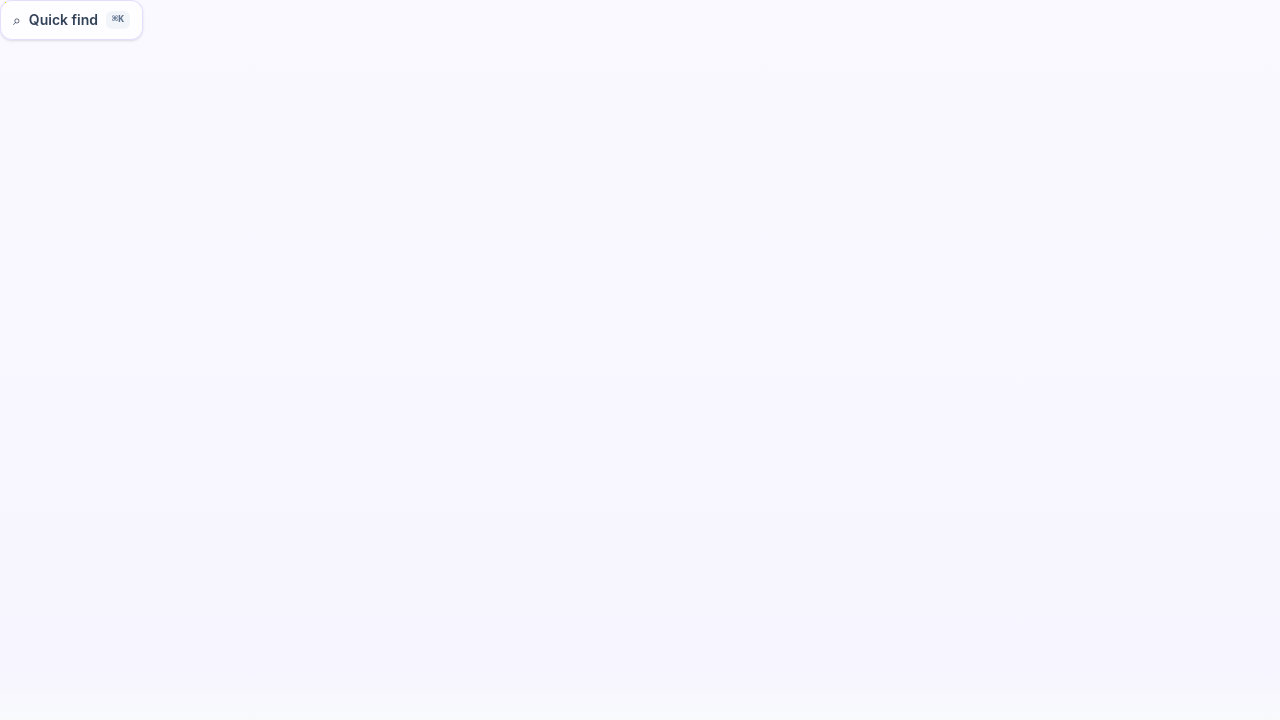
Test: CommandPalette › opens from the keyboard, filters companies and navigates without a mouse
Press k
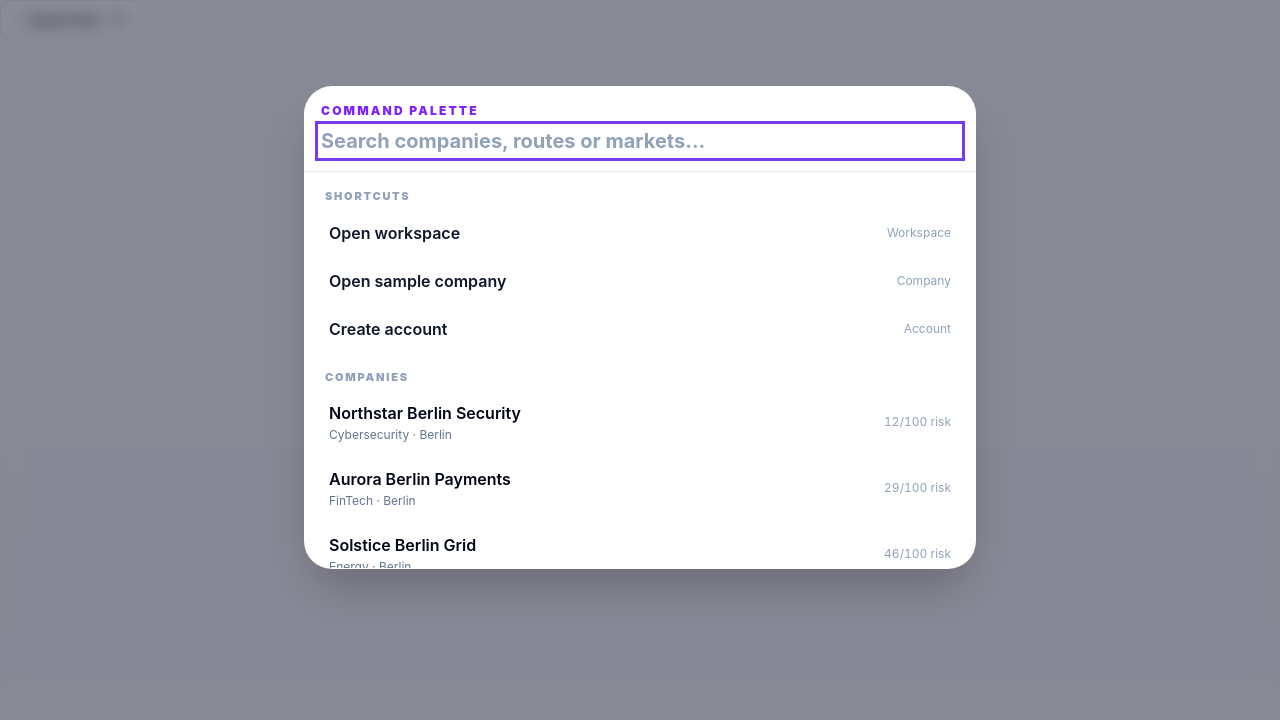
Now the dialog "Command palette" is shown, box [304, 86, 976, 569]
Type "Northstar Berlin" into the field named "Search commands and companies". click: (640, 141)
box: [321, 127, 959, 155]
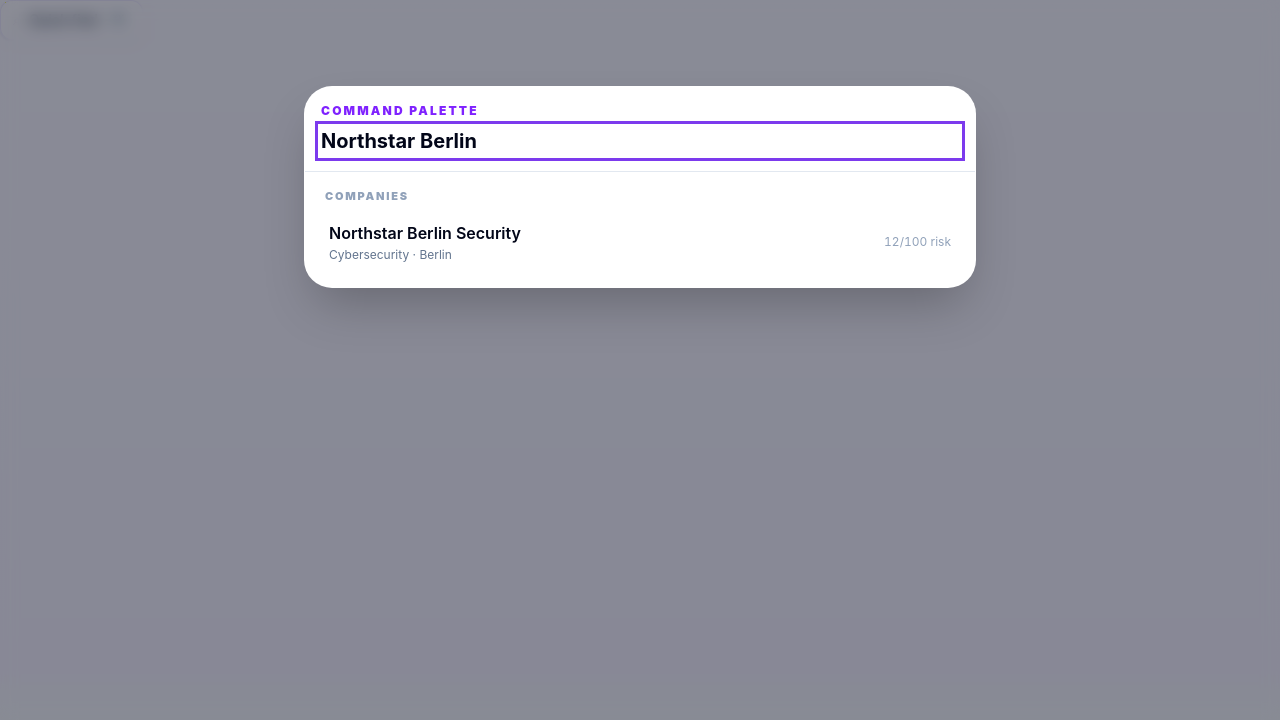
Click the button "Northstar Berlin Security Cybersecurity · Berlin 12/100 risk". click: (425, 233)
box: [317, 209, 963, 275]
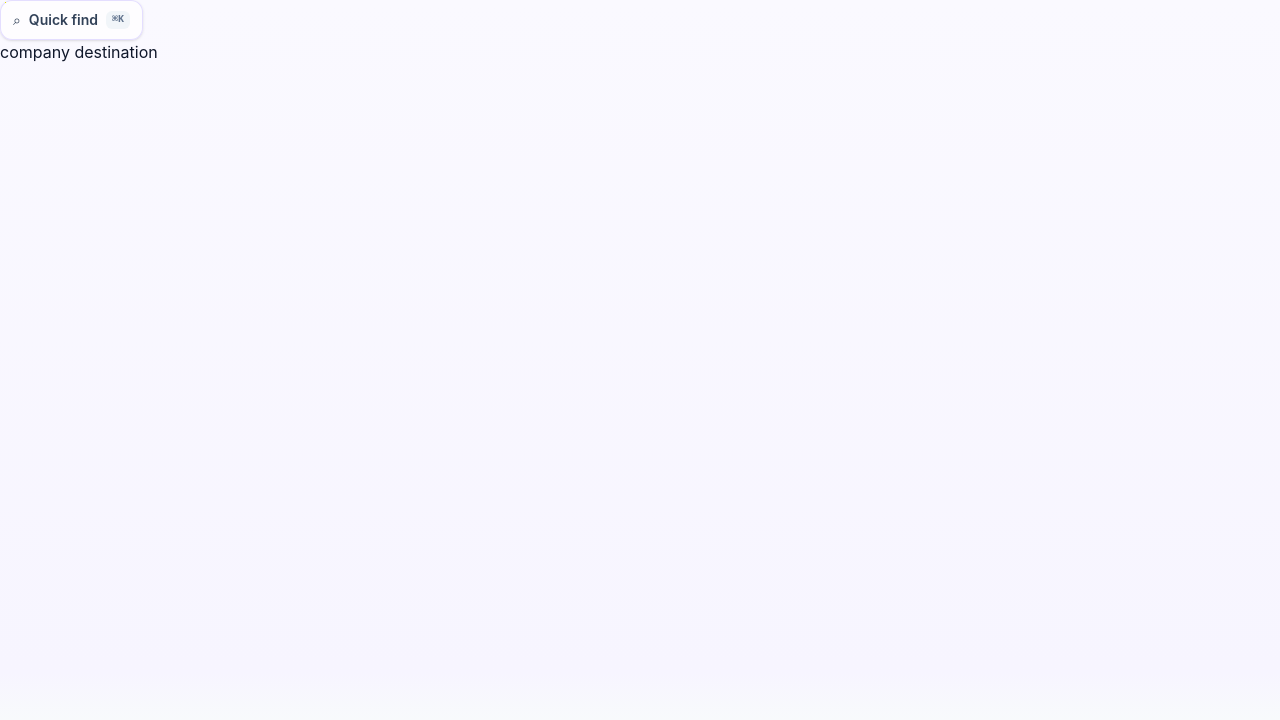
Now the text "company destination" is shown, box [0, 42, 158, 62]
